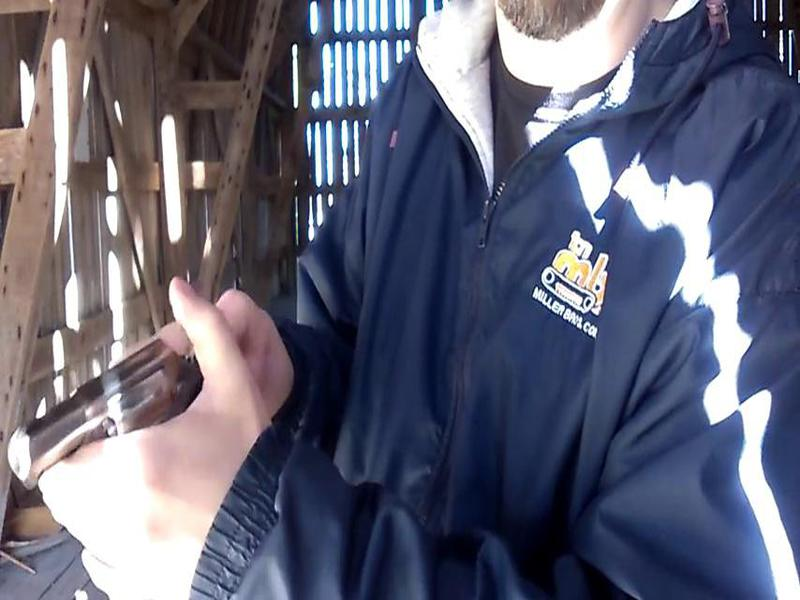Revolver: (1, 347, 214, 501)
